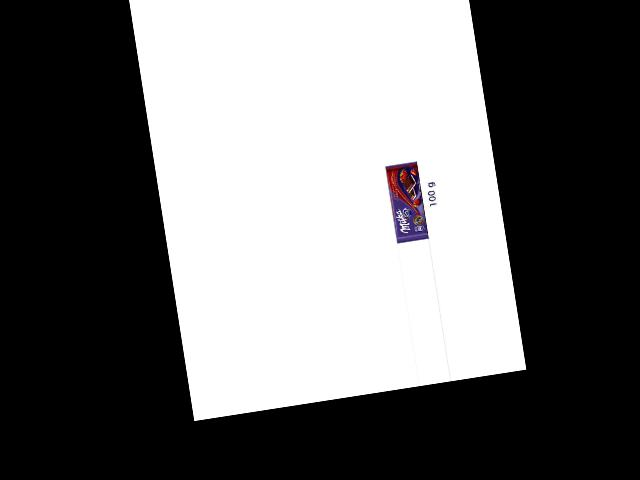chocolate: (385, 160, 432, 243)
